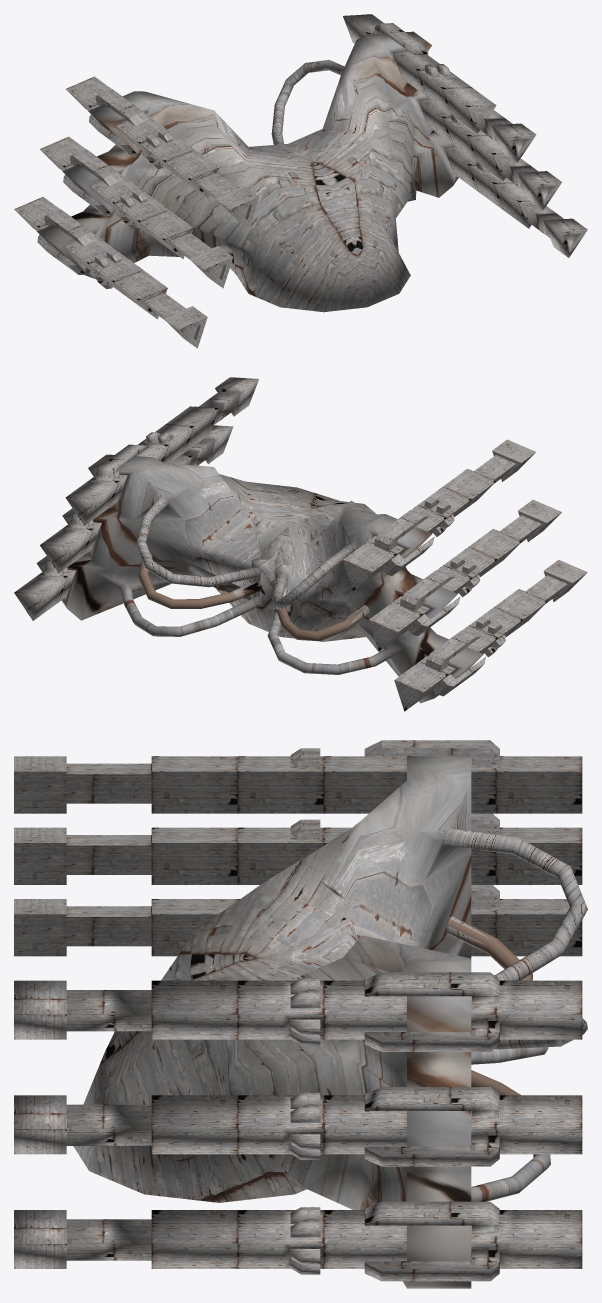
File: heavyTurret_head_lod1.obj
3 views of the same model, one above another, from view 1: azimuth 30°, elevation 25°; view 2: azimuth 150°, elevation 25°; view 3: azimuth 270°, elevation 25° (orthographic). The views are drawn at different scales.
Parts seen in each view (by area): view 1: Turret_Cube, R-2_Cube.002, R-3_Cube.002, R-1_Cube.002, L-1_Cube.001, L-2_Cube.001, L-3_Cube.001; view 2: Turret_Cube, R-1_Cube.002, R-2_Cube.002, R-3_Cube.002, L-1_Cube.001, L-2_Cube.001, L-3_Cube.001; view 3: Turret_Cube, L-1_Cube.001, L-2_Cube.001, L-3_Cube.001, R-1_Cube.002, R-2_Cube.002, R-3_Cube.002.
Part boxes in pixels (x1=…): Turret_Cube: x1=37, y1=31, x2=458, y2=312; R-2_Cube.002: x1=40, y1=136, x2=233, y2=288; R-3_Cube.002: x1=14, y1=197, x2=207, y2=348; R-1_Cube.002: x1=66, y1=76, x2=258, y2=228; L-1_Cube.001: x1=343, y1=14, x2=536, y2=162; L-2_Cube.001: x1=418, y1=99, x2=561, y2=210; L-3_Cube.001: x1=444, y1=147, x2=587, y2=257; Turret_Cube: x1=36, y1=454, x2=483, y2=703; R-1_Cube.002: x1=343, y1=439, x2=535, y2=591; R-2_Cube.002: x1=368, y1=499, x2=561, y2=651; R-3_Cube.002: x1=394, y1=560, x2=587, y2=711; L-1_Cube.001: x1=65, y1=377, x2=258, y2=525; L-2_Cube.001: x1=40, y1=425, x2=233, y2=573; L-3_Cube.001: x1=14, y1=560, x2=75, y2=620; Turret_Cube: x1=73, y1=756, x2=587, y2=1288; L-1_Cube.001: x1=14, y1=972, x2=582, y2=1051; L-2_Cube.001: x1=14, y1=1087, x2=582, y2=1166; L-3_Cube.001: x1=14, y1=1201, x2=582, y2=1281; R-1_Cube.002: x1=14, y1=740, x2=582, y2=813; R-2_Cube.002: x1=14, y1=813, x2=582, y2=884; R-3_Cube.002: x1=14, y1=885, x2=582, y2=956.
Bounding box in the file's own units: 5 × 1.84 × 3.36.
Materials: 1 (1 with a texture image).
